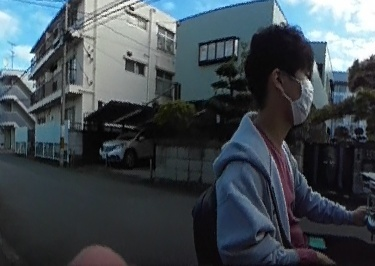person: (207, 20, 373, 265)
